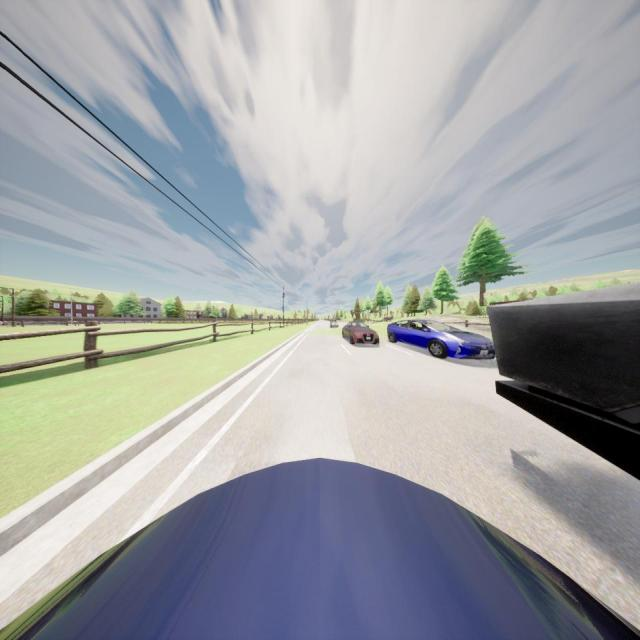Vehicle: (0, 458, 640, 640), (485, 283, 640, 479), (387, 319, 495, 360), (342, 320, 380, 345), (330, 319, 339, 328)
